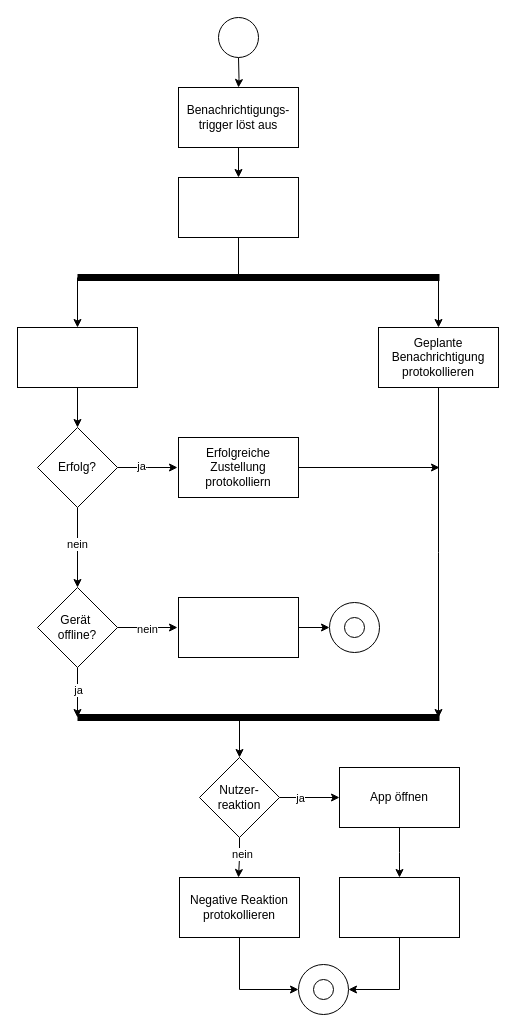
This 516x1032 diagram has some shape labels left out. Here are the shapes that lost their labels. From the top down, the centre of each, then its label:
[238,207]: Individuelle Benachrichtigung erstellen
[77,357]: Nachricht versenden
[238,627]: Fehler protokollieren
[399,907]: Positive Reaktion protokollieren
